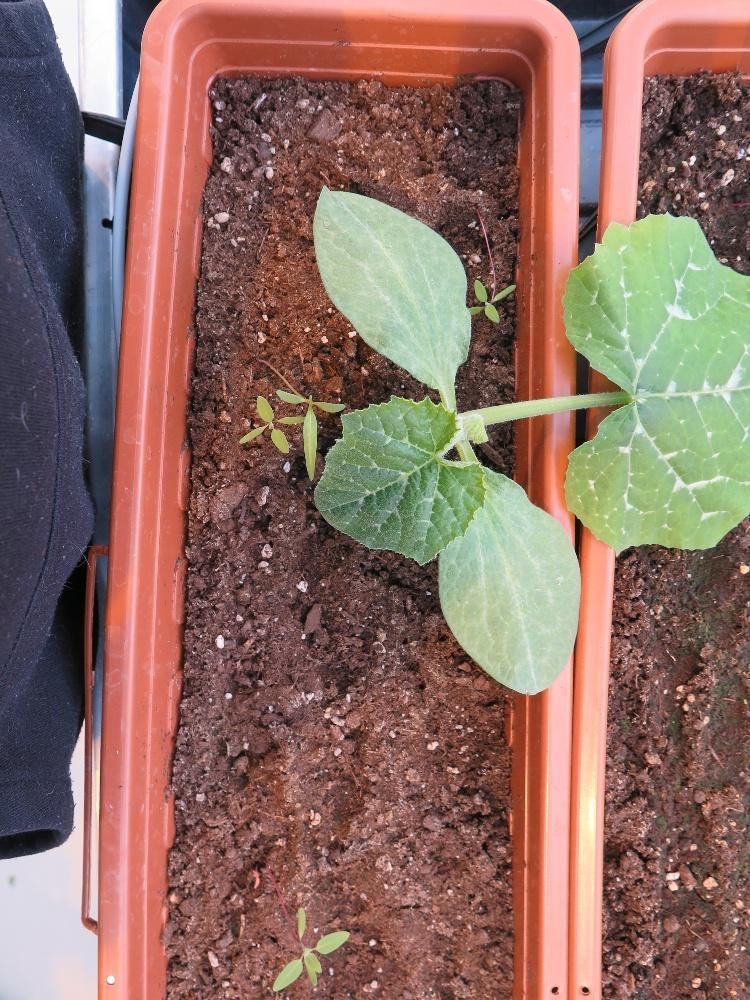weed: (270, 903, 350, 994)
